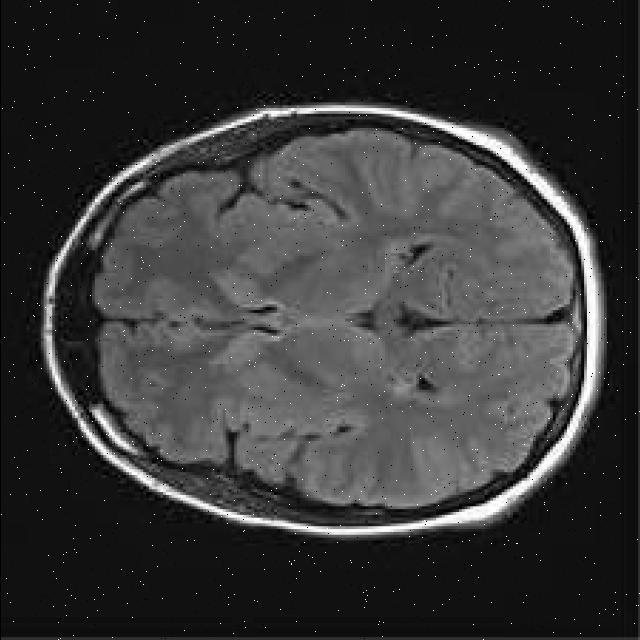No_Tumor: (41, 105, 604, 537)
